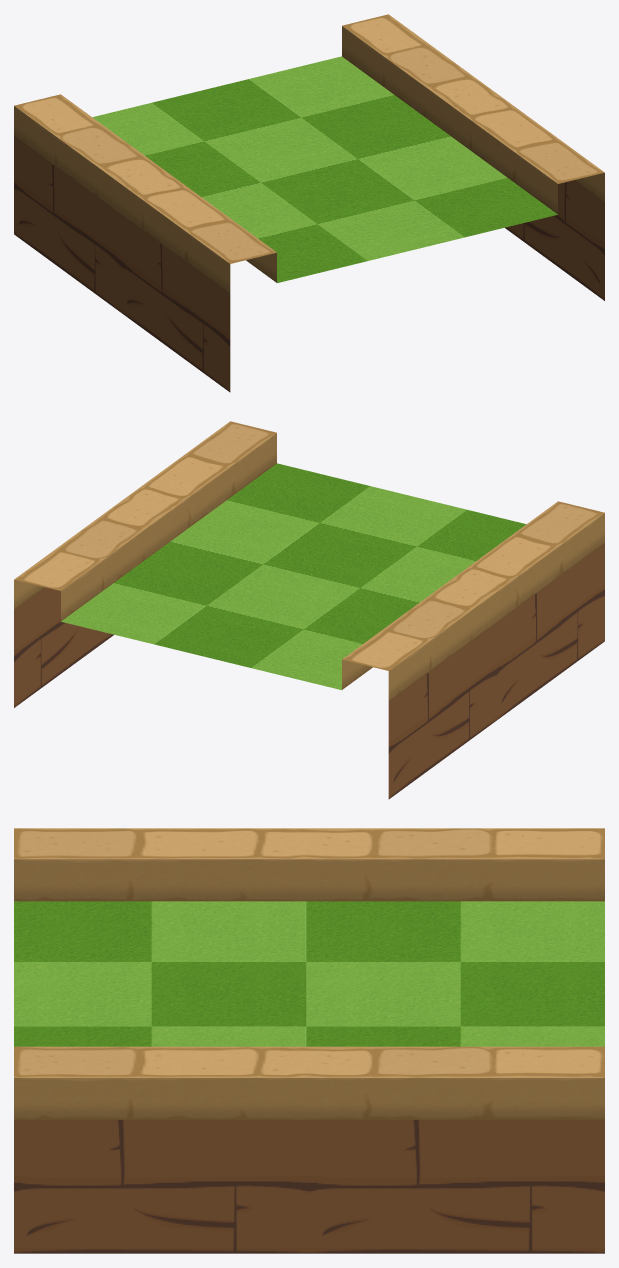
Rendered from tile19.FBX.
3 renders of one model, top to bottom at view 1: azimuth 30°, elevation 25°; view 2: azimuth 150°, elevation 25°; view 3: azimuth 270°, elevation 25°, orthographic. The views are drawn at different scales.
Parts seen in each view (by area): view 1: tile19_walls, tile19_floor; view 2: tile19_walls, tile19_floor; view 3: tile19_walls, tile19_floor.
Part boxes in pixels (left/top/right/bottom): tile19_walls: left=14, top=14, right=604, bottom=392; tile19_floor: left=92, top=56, right=557, bottom=283; tile19_walls: left=14, top=421, right=604, bottom=799; tile19_floor: left=61, top=463, right=526, bottom=690; tile19_walls: left=14, top=828, right=604, bottom=1253; tile19_floor: left=14, top=901, right=604, bottom=1046.
Size of the model in its own units: 1280 by 420 by 1280.
